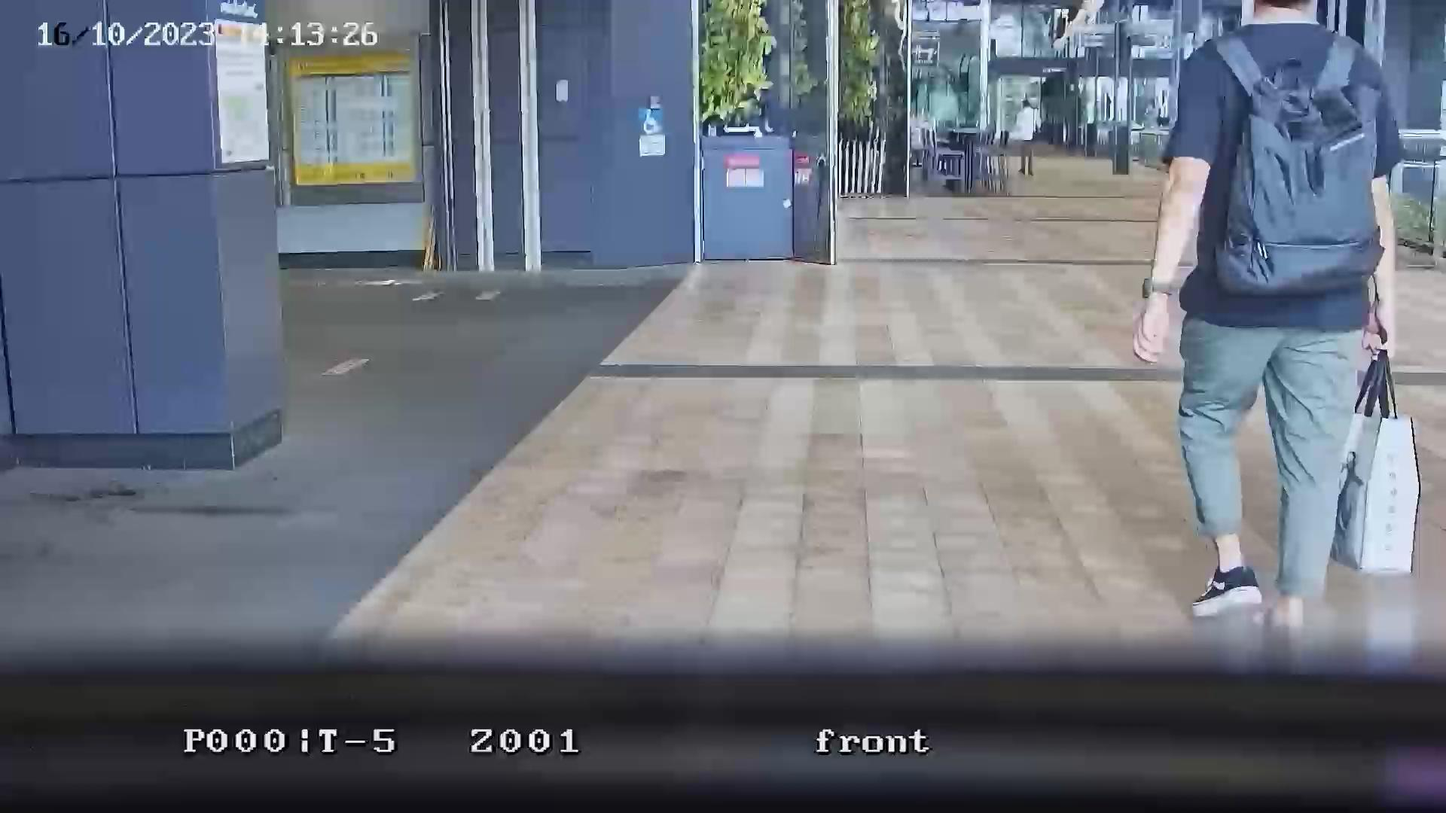person: (1130, 6, 1401, 617), (1011, 94, 1040, 178)
